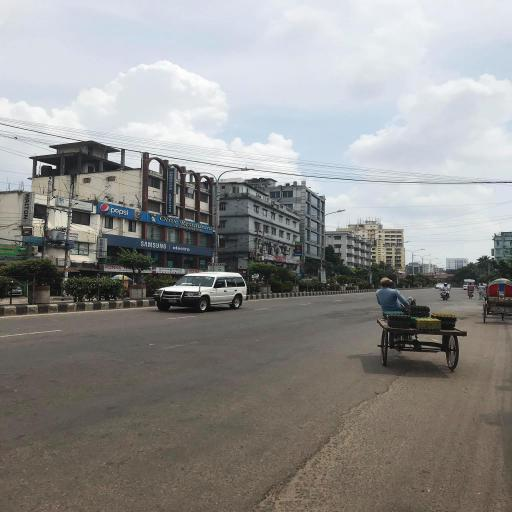bus: (463, 279, 477, 291)
car: (435, 284, 445, 290)
minivan: (153, 272, 248, 316)
motorbike: (439, 283, 452, 302)
rickshaw: (481, 278, 512, 326), (467, 283, 476, 300)
wheelbarrow: (373, 305, 467, 373)
